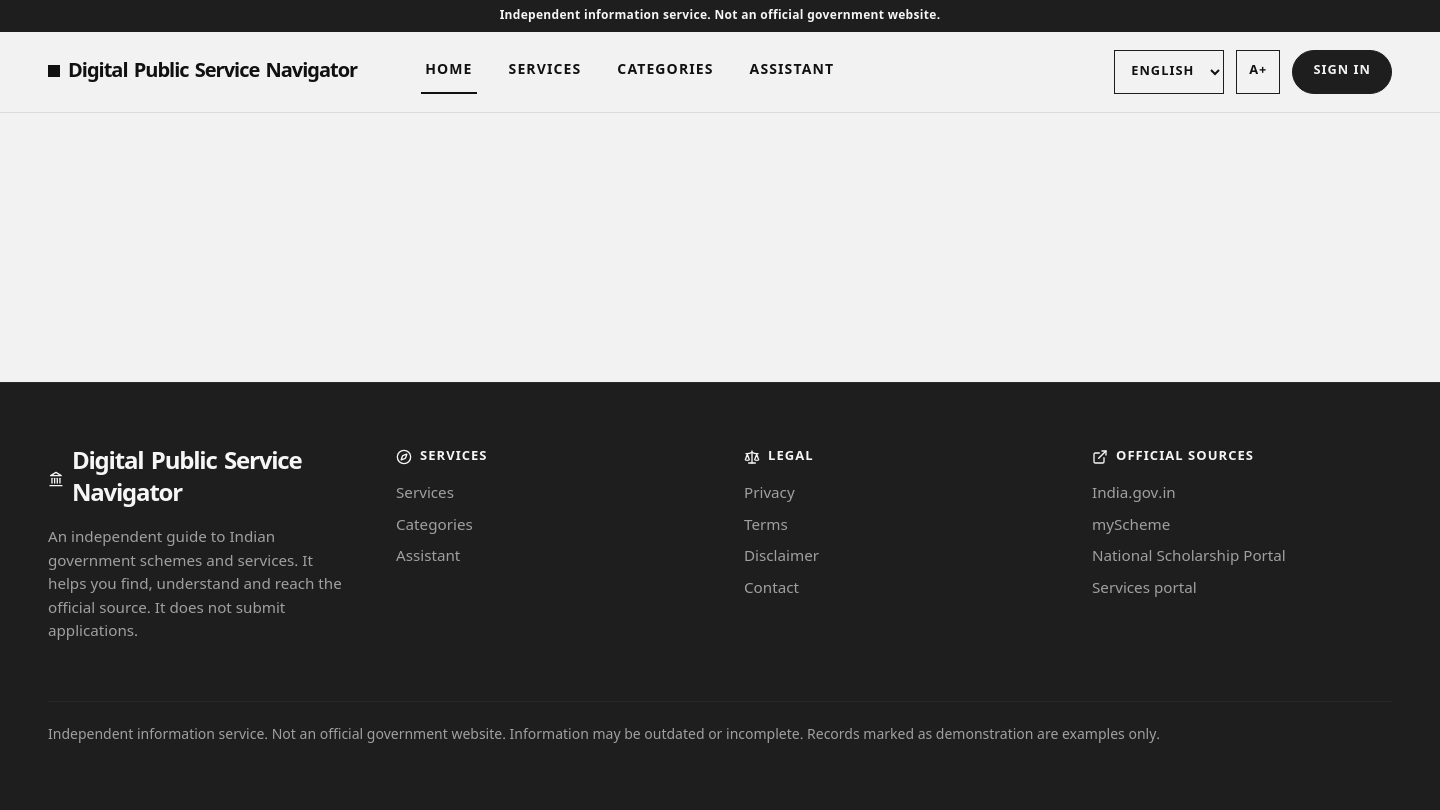
Test: Layout › has a skip link, the independence banner, and a working language switcher
Select "हिन्दी" in the dropdown named "Language" at (1169, 72), box [1114, 50, 1224, 94]
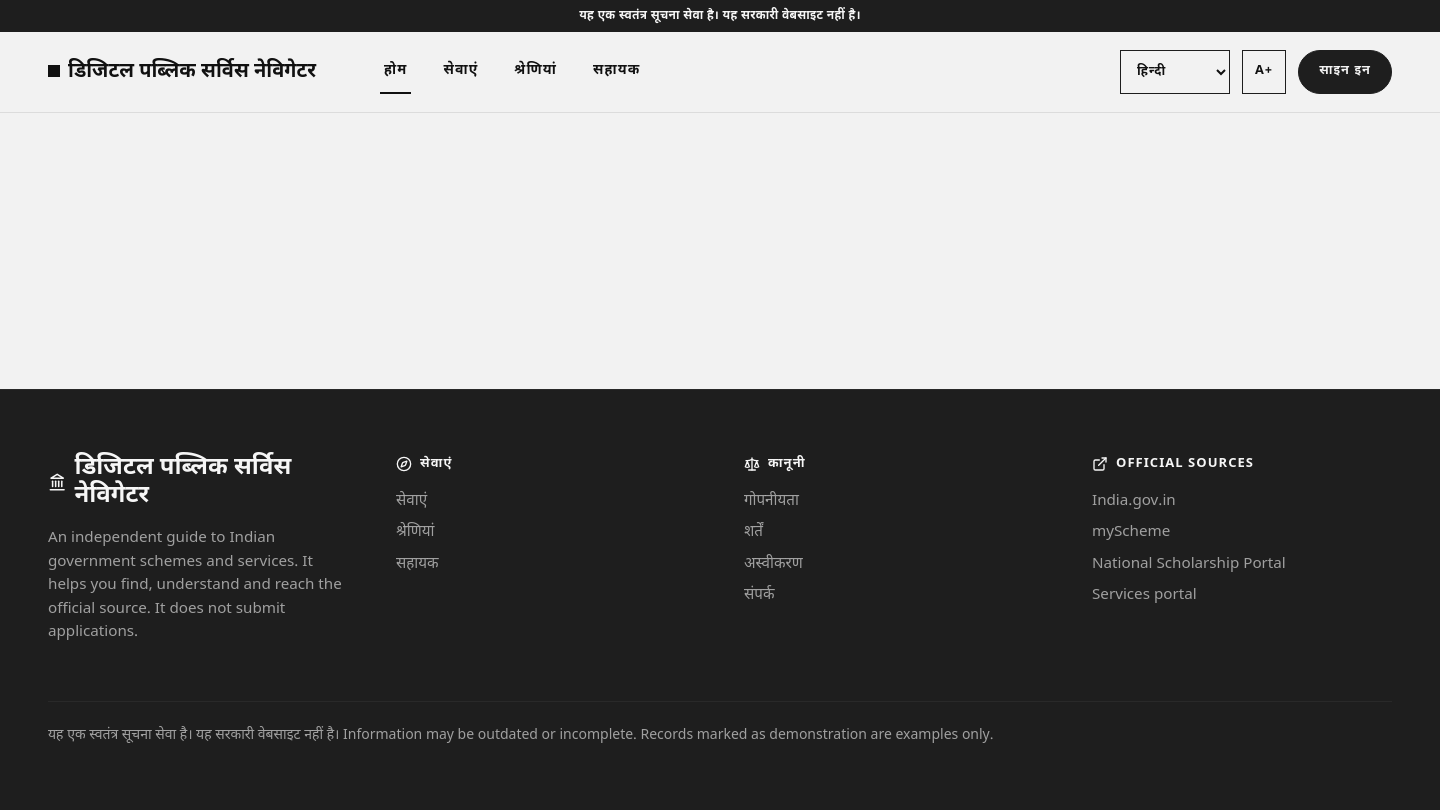
Check: the link "होम" is shown, box [380, 50, 412, 94]
